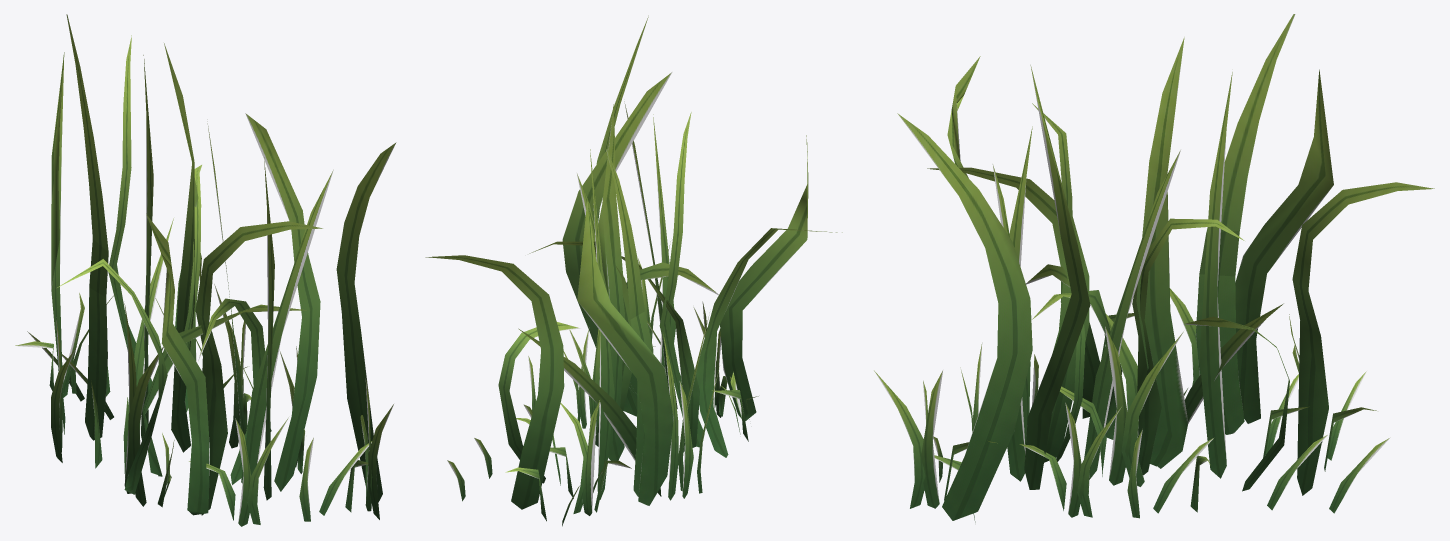
File: grass tuft 1.glb
3 renders of one model, left to right at view 1: azimuth 30°, elevation 25°; view 2: azimuth 150°, elevation 25°; view 3: azimuth 270°, elevation 25°, orthographic. The views are drawn at different scales.
Visible parts, largest first — view 1: grass; view 2: grass; view 3: grass.
Boxes of the visible parts, <box> form: grass: <box>15,14,396,526</box>; grass: <box>425,15,842,526</box>; grass: <box>874,14,1434,522</box>.
Size of the model in its own units: 3.25 by 4.59 by 5.11.
1 material, 1 textured.
